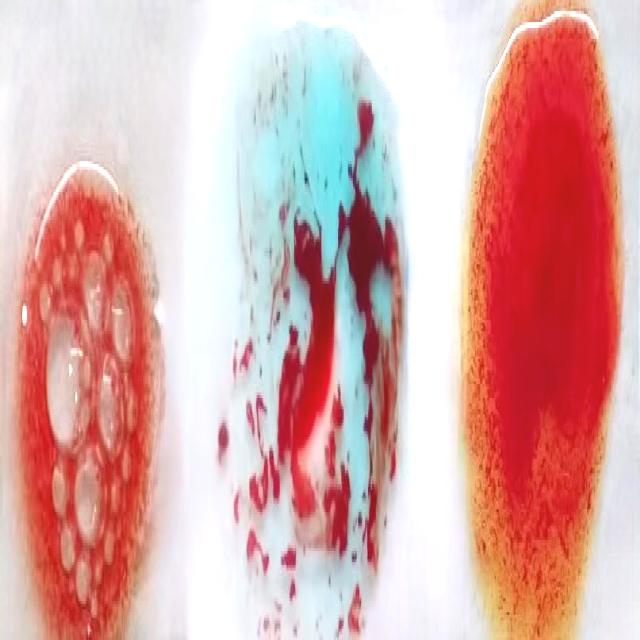A: (244, 21, 404, 640)
B: (477, 23, 616, 640)
D: (22, 150, 160, 640)
